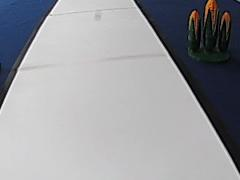corn: (182, 0, 235, 62)
